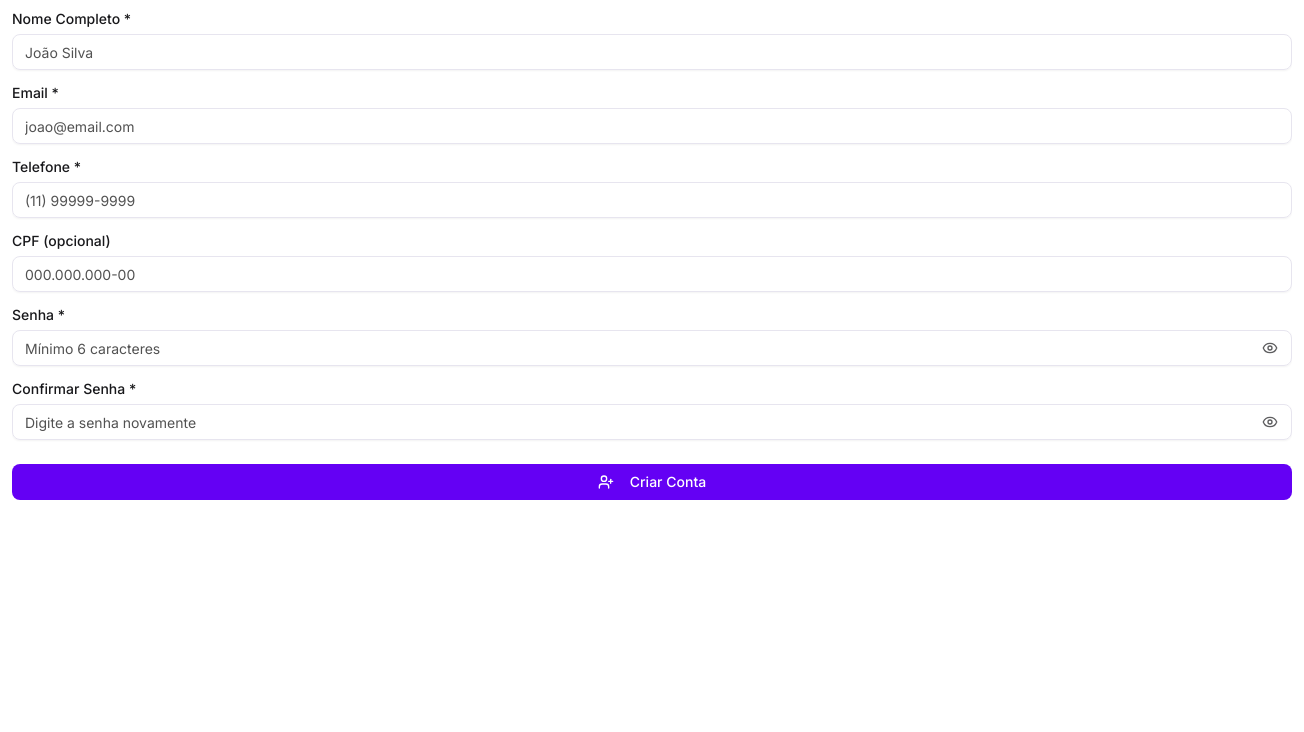
Test case: ClientRegisterForm › e-mail já cadastrado mostra o motivo do 422, não o genérico "Dados inválidos"
The image size is (1304, 732).
In the field labelled "Nome Completo *": (652, 52) [12,34,1292,70], type "Maria Nova"
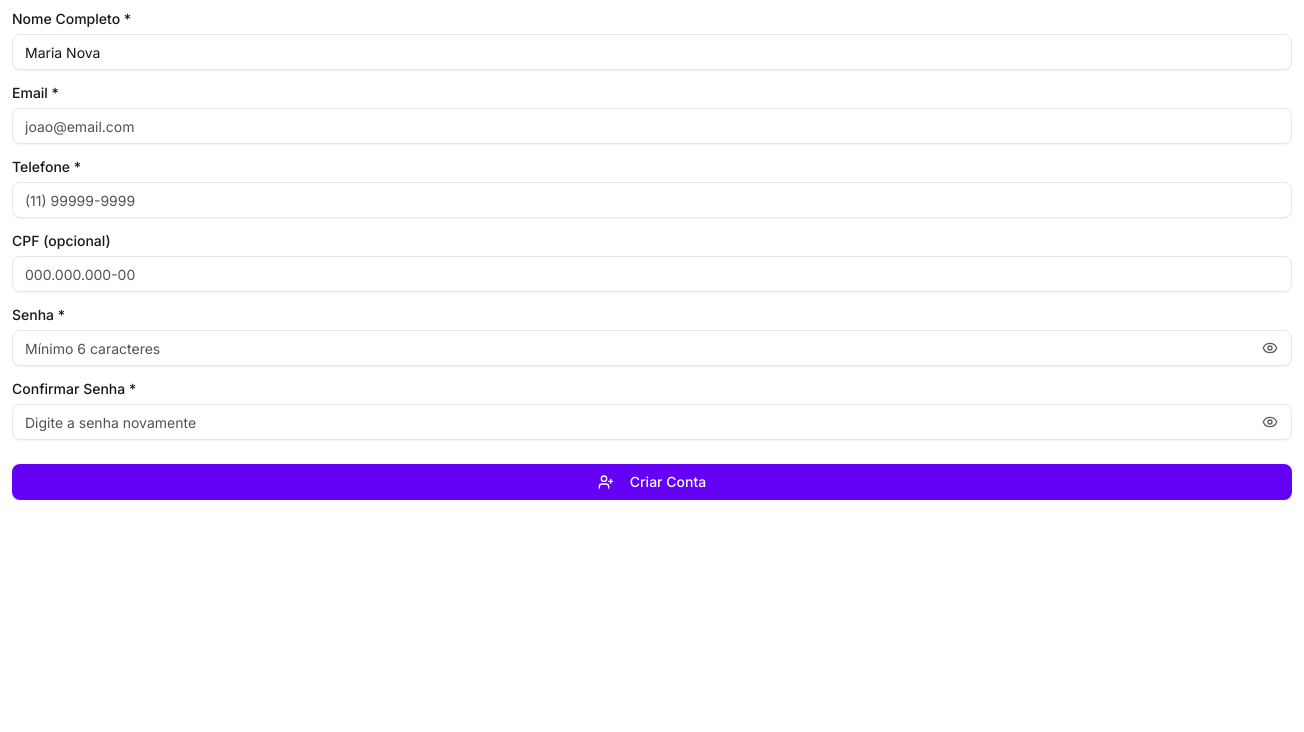
In the field labelled "Email *": (652, 126) [12,108,1292,144], type "maria@teste.com"
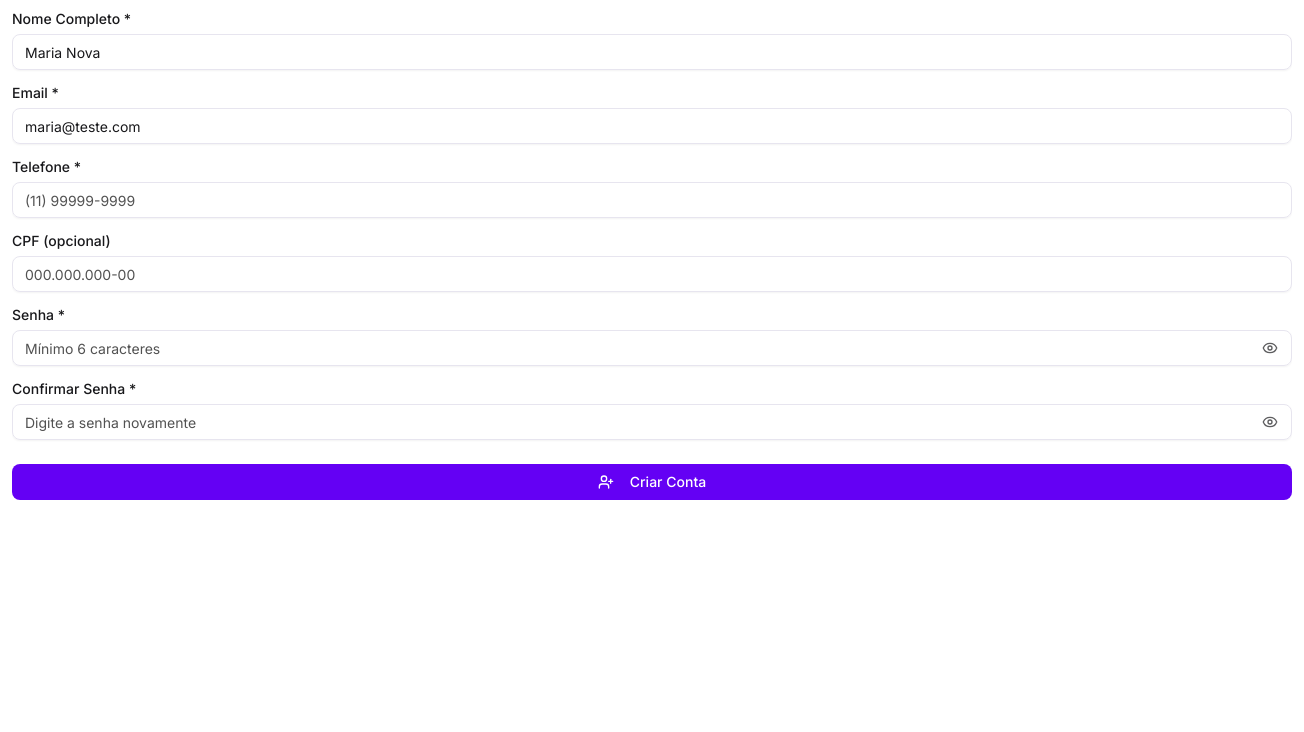
In the field labelled "Telefone *": (652, 200) [12,182,1292,218], type "71988887777"
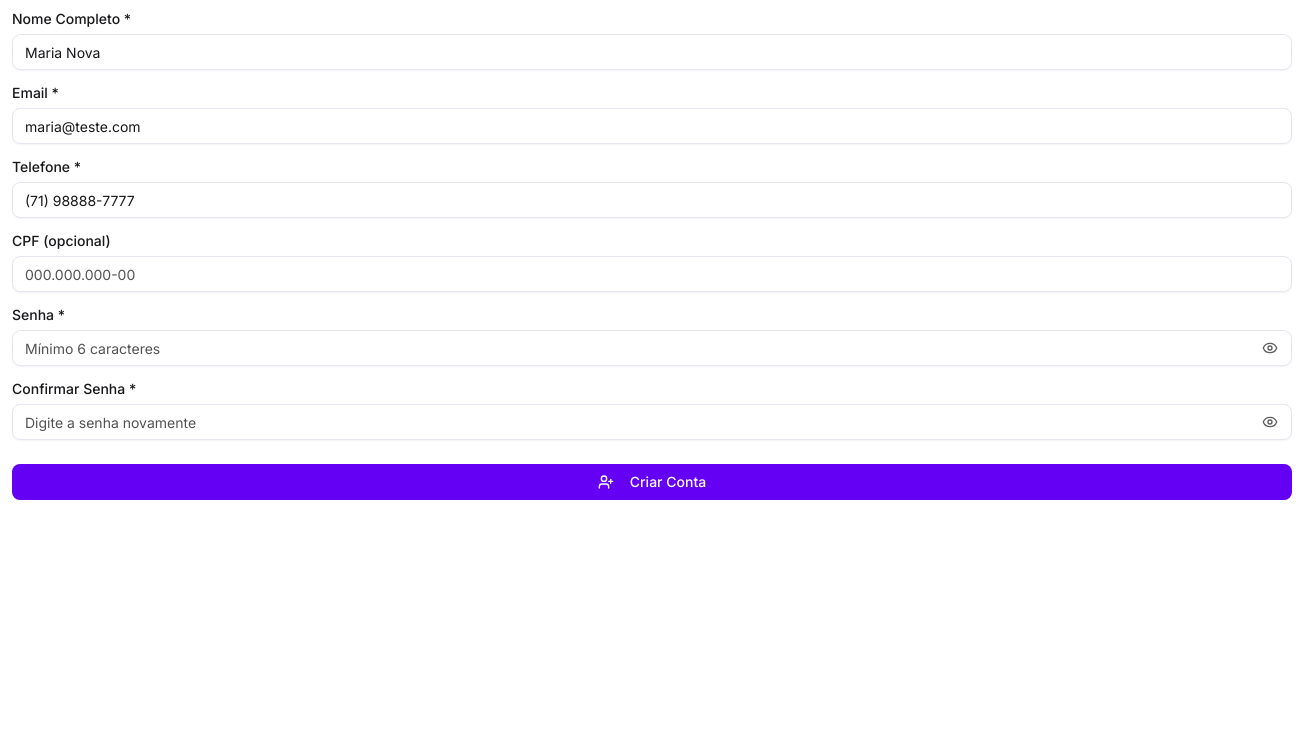
In the password field labelled "Senha *": (652, 348) [12,330,1292,366], type "segredo123"
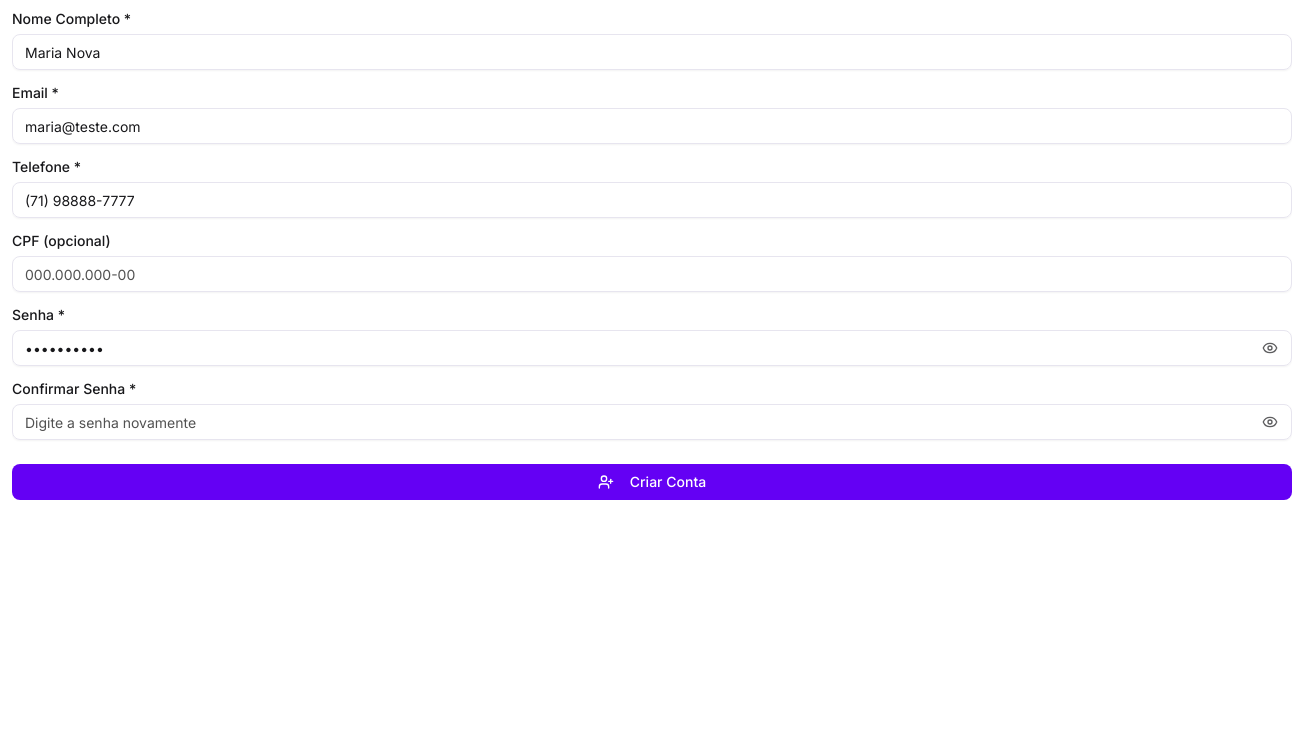
In the password field labelled "Confirmar Senha *": (652, 422) [12,404,1292,440], type "segredo123"
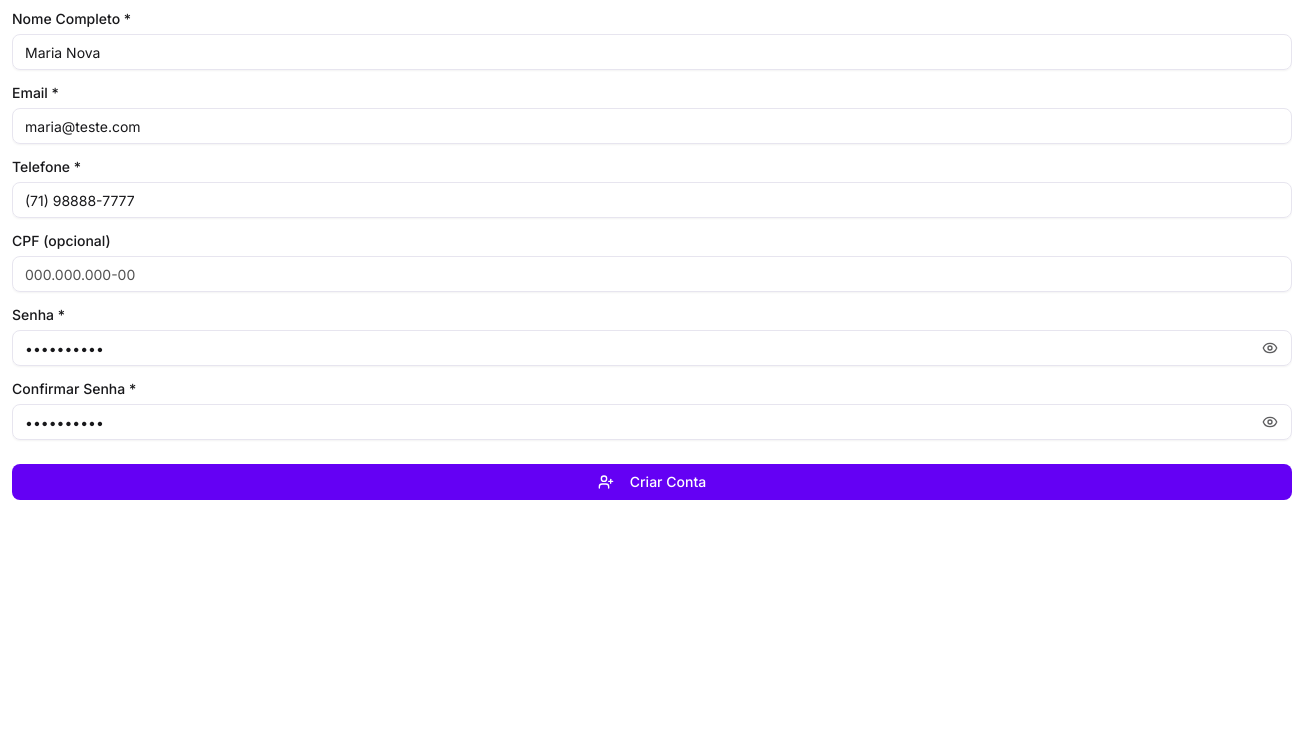
Click the button "Criar Conta": click(652, 482) [12,464,1292,500]
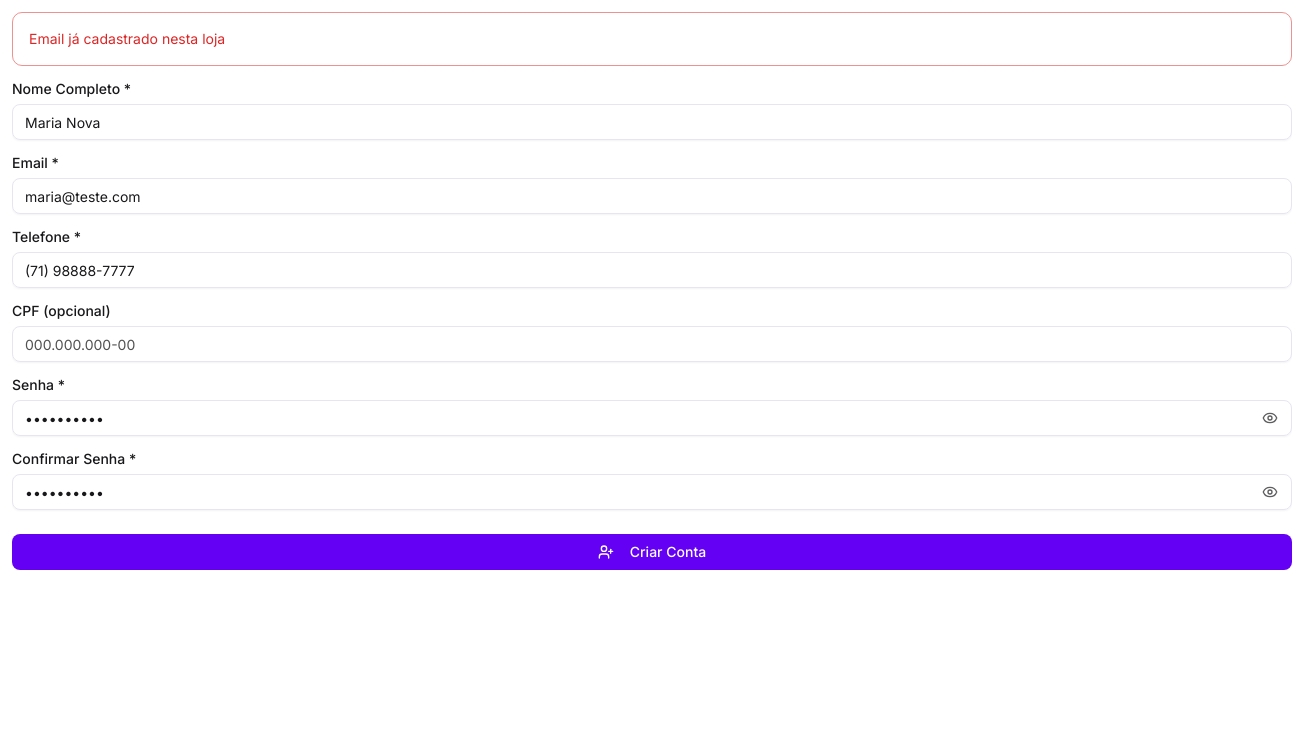
Expected: the text "Email já cadastrado nesta loja" is shown, [29,30,225,47]
